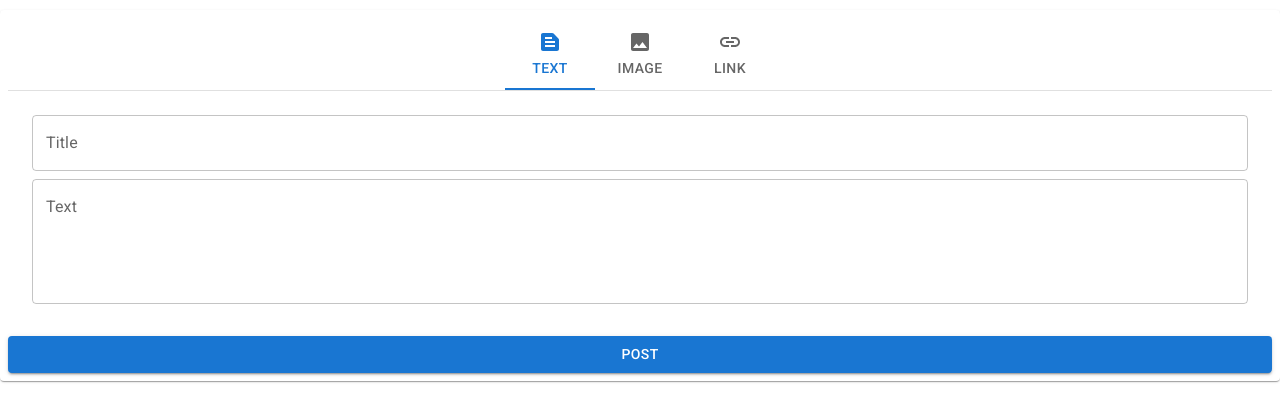
CreatePostCard Tests › Check interaction with elements › should display a snackbar error if there is no image
Click the tab with test id "image-icon": (640, 54) [595, 18, 685, 90]
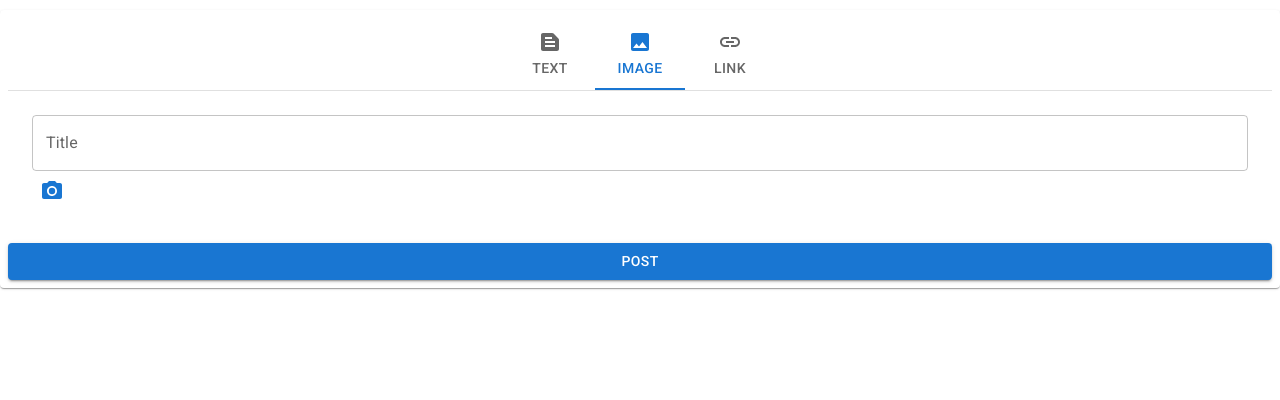
Click the button "Post": (640, 261) [8, 243, 1272, 280]
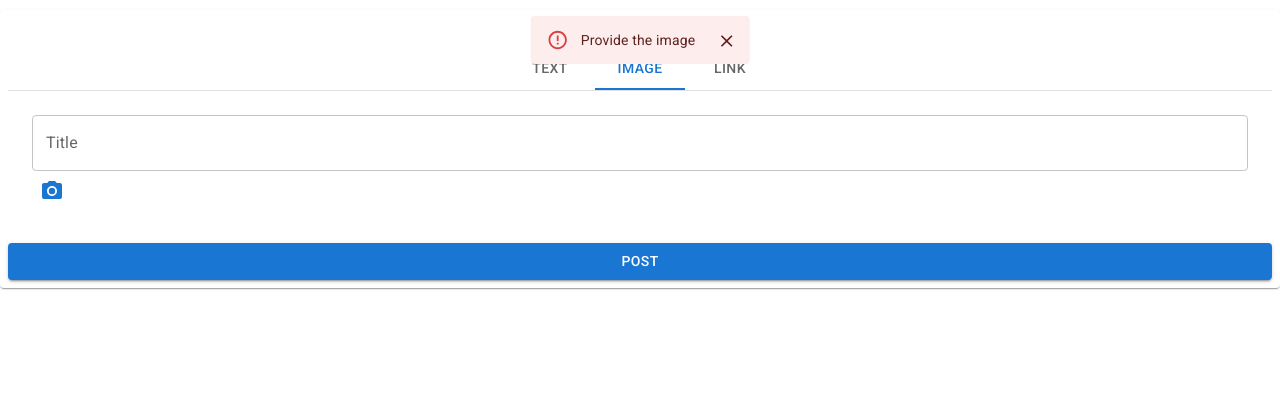
Expected: the text "Provide the image" is shown, [581, 32, 695, 48]
